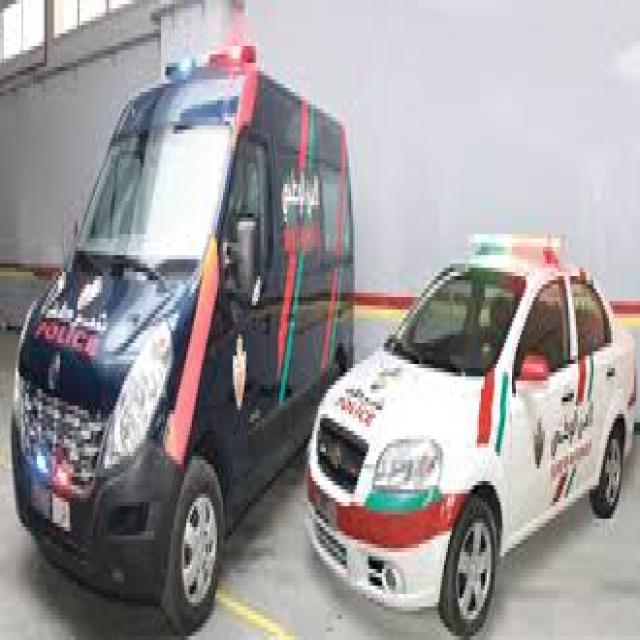Police car: (300, 216, 640, 633)
